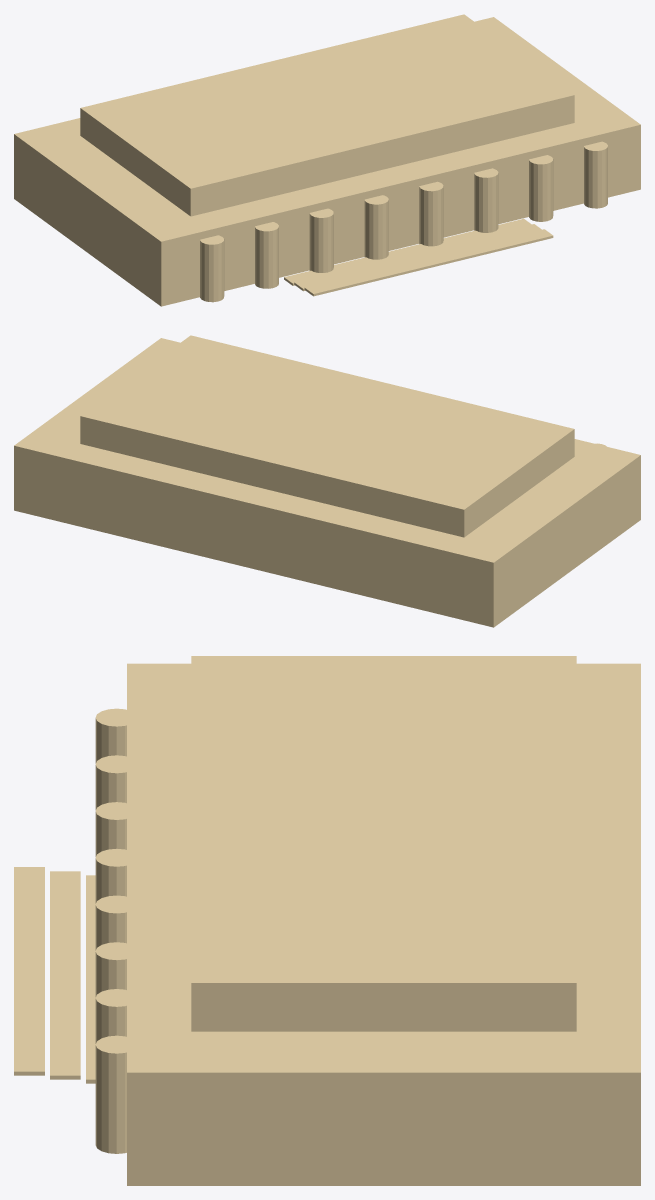
Rendered from royal_library_academy.glb.
3 views of the same model, one above another, from view 1: azimuth 30°, elevation 25°; view 2: azimuth 150°, elevation 25°; view 3: azimuth 270°, elevation 25° (orthographic). The views are drawn at different scales.
Visible parts, largest first — view 1: royal_library_academy; view 2: royal_library_academy; view 3: royal_library_academy.
Boxes of the visible parts, <box> form: royal_library_academy: <box>14,14,640,306</box>; royal_library_academy: <box>14,335,640,627</box>; royal_library_academy: <box>14,656,640,1185</box>.
Bounding box in the file's own units: 97.5 × 18 × 63.2.
